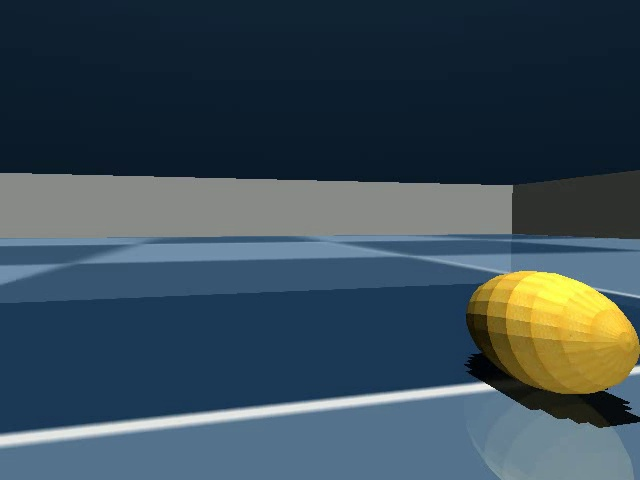lemon: (460, 264, 640, 413)
